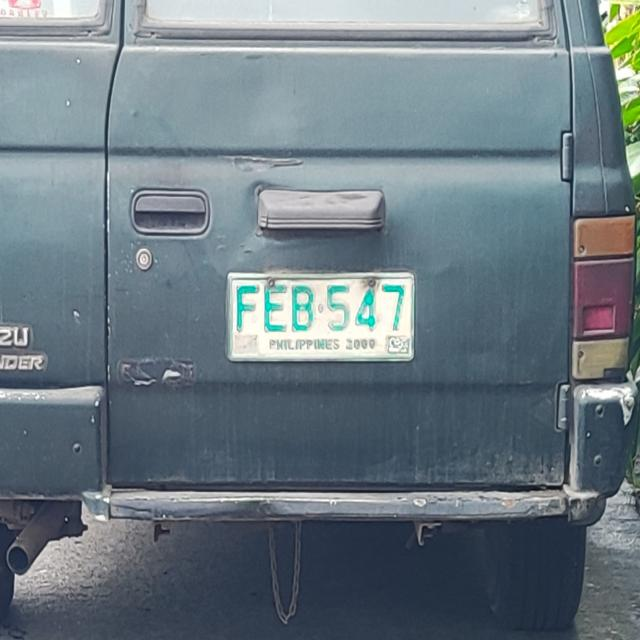plate: (226, 271, 416, 363)
